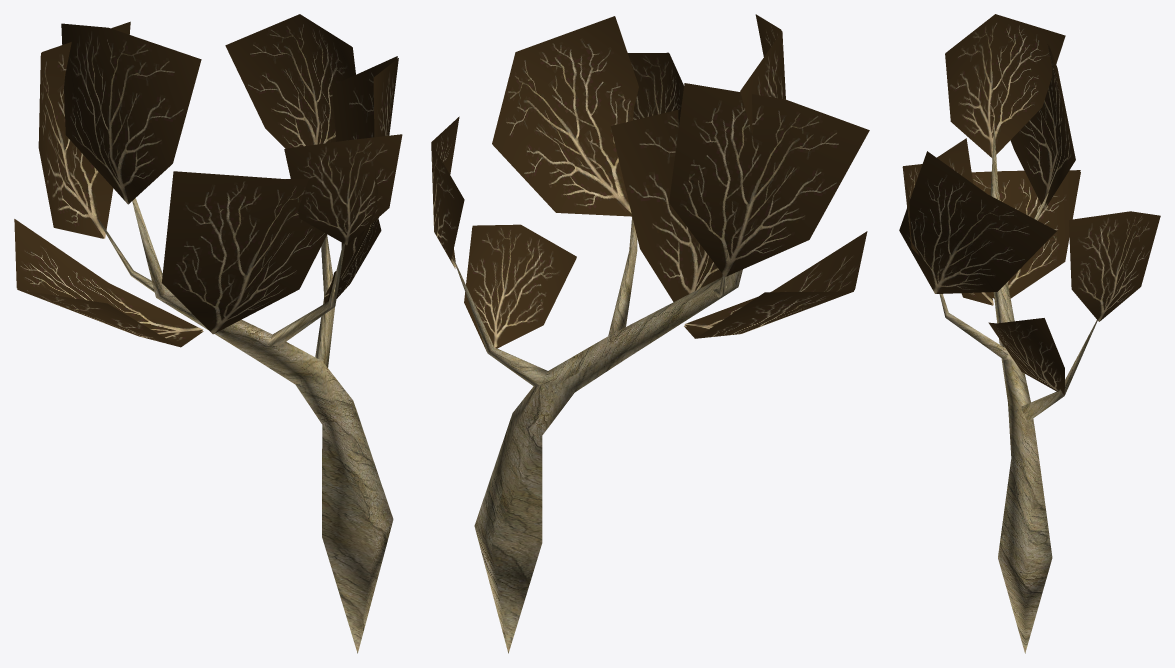
The model's file is decd_endr_destree_dead_a1_l1.fbx.
3 views of the same model, side by side, from view 1: azimuth 30°, elevation 25°; view 2: azimuth 150°, elevation 25°; view 3: azimuth 270°, elevation 25° (orthographic). The views are drawn at different scales.
Visible parts, largest first — view 1: mesh_node; view 2: mesh_node; view 3: mesh_node.
Part boxes in pixels (x1,y1,x2,y2): mesh_node: [14, 14, 402, 653]; mesh_node: [431, 14, 869, 653]; mesh_node: [899, 14, 1160, 653].
Size of the model in its own units: 8.61 by 14.98 by 6.57.
